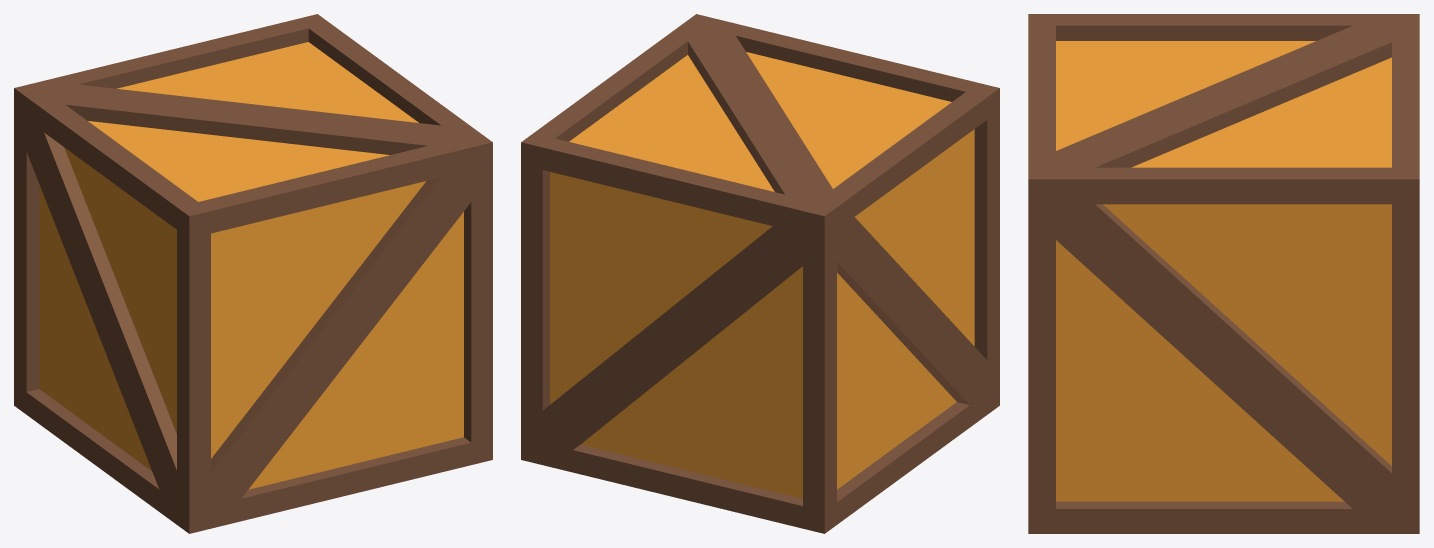
Rendered from Box_AssestsConcert.fbx.
The picture shows the model from 3 angles, left to right: view 1: azimuth 30°, elevation 25°; view 2: azimuth 150°, elevation 25°; view 3: azimuth 270°, elevation 25°; orthographic projection. The views are drawn at different scales.
Parts seen in each view (by area): view 1: Box; view 2: Box; view 3: Box.
Boxes of the visible parts, left/top/right/bottom form: Box: left=14, top=14, right=492, bottom=533; Box: left=521, top=14, right=999, bottom=533; Box: left=1028, top=14, right=1419, bottom=533.
Size of the model in its own units: 200 by 200 by 200.
